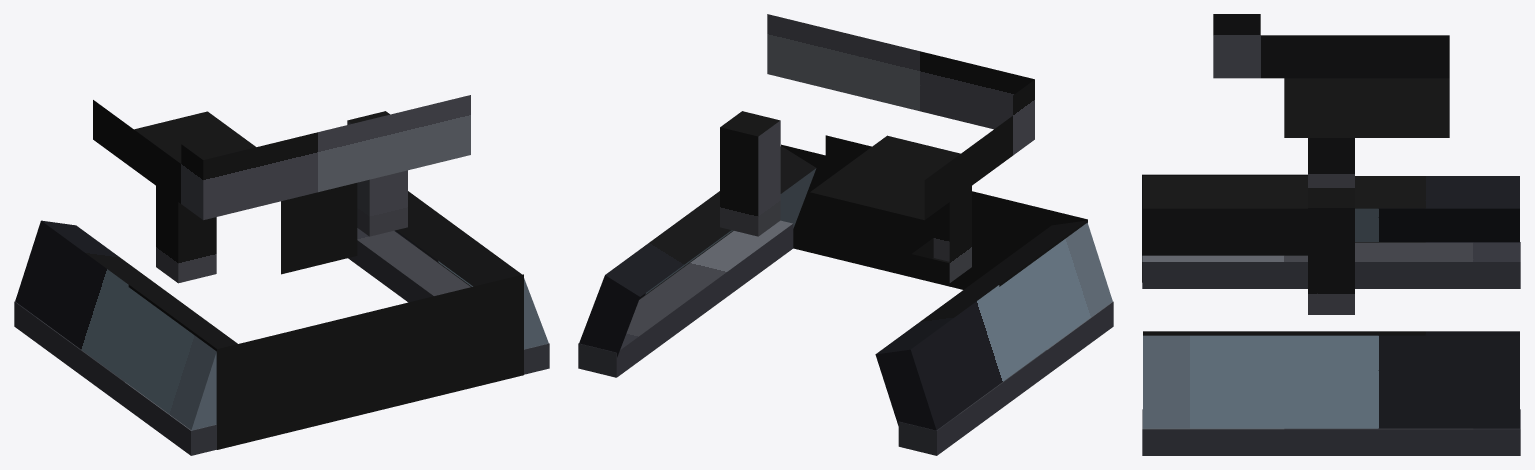
Rendered from assembly_table.obj.
3 views of the same model, side by side, from view 1: azimuth 30°, elevation 25°; view 2: azimuth 150°, elevation 25°; view 3: azimuth 270°, elevation 25° (orthographic). The views are drawn at different scales.
Parts seen in each view (by area): view 1: workstation; view 2: workstation; view 3: workstation.
Part boxes in pixels (bbox=[...]): workstation: bbox=[14, 95, 549, 455]; workstation: bbox=[578, 14, 1113, 455]; workstation: bbox=[1142, 14, 1520, 455].
Size of the model in its own units: 1.05 by 0.7263 by 0.8947.
